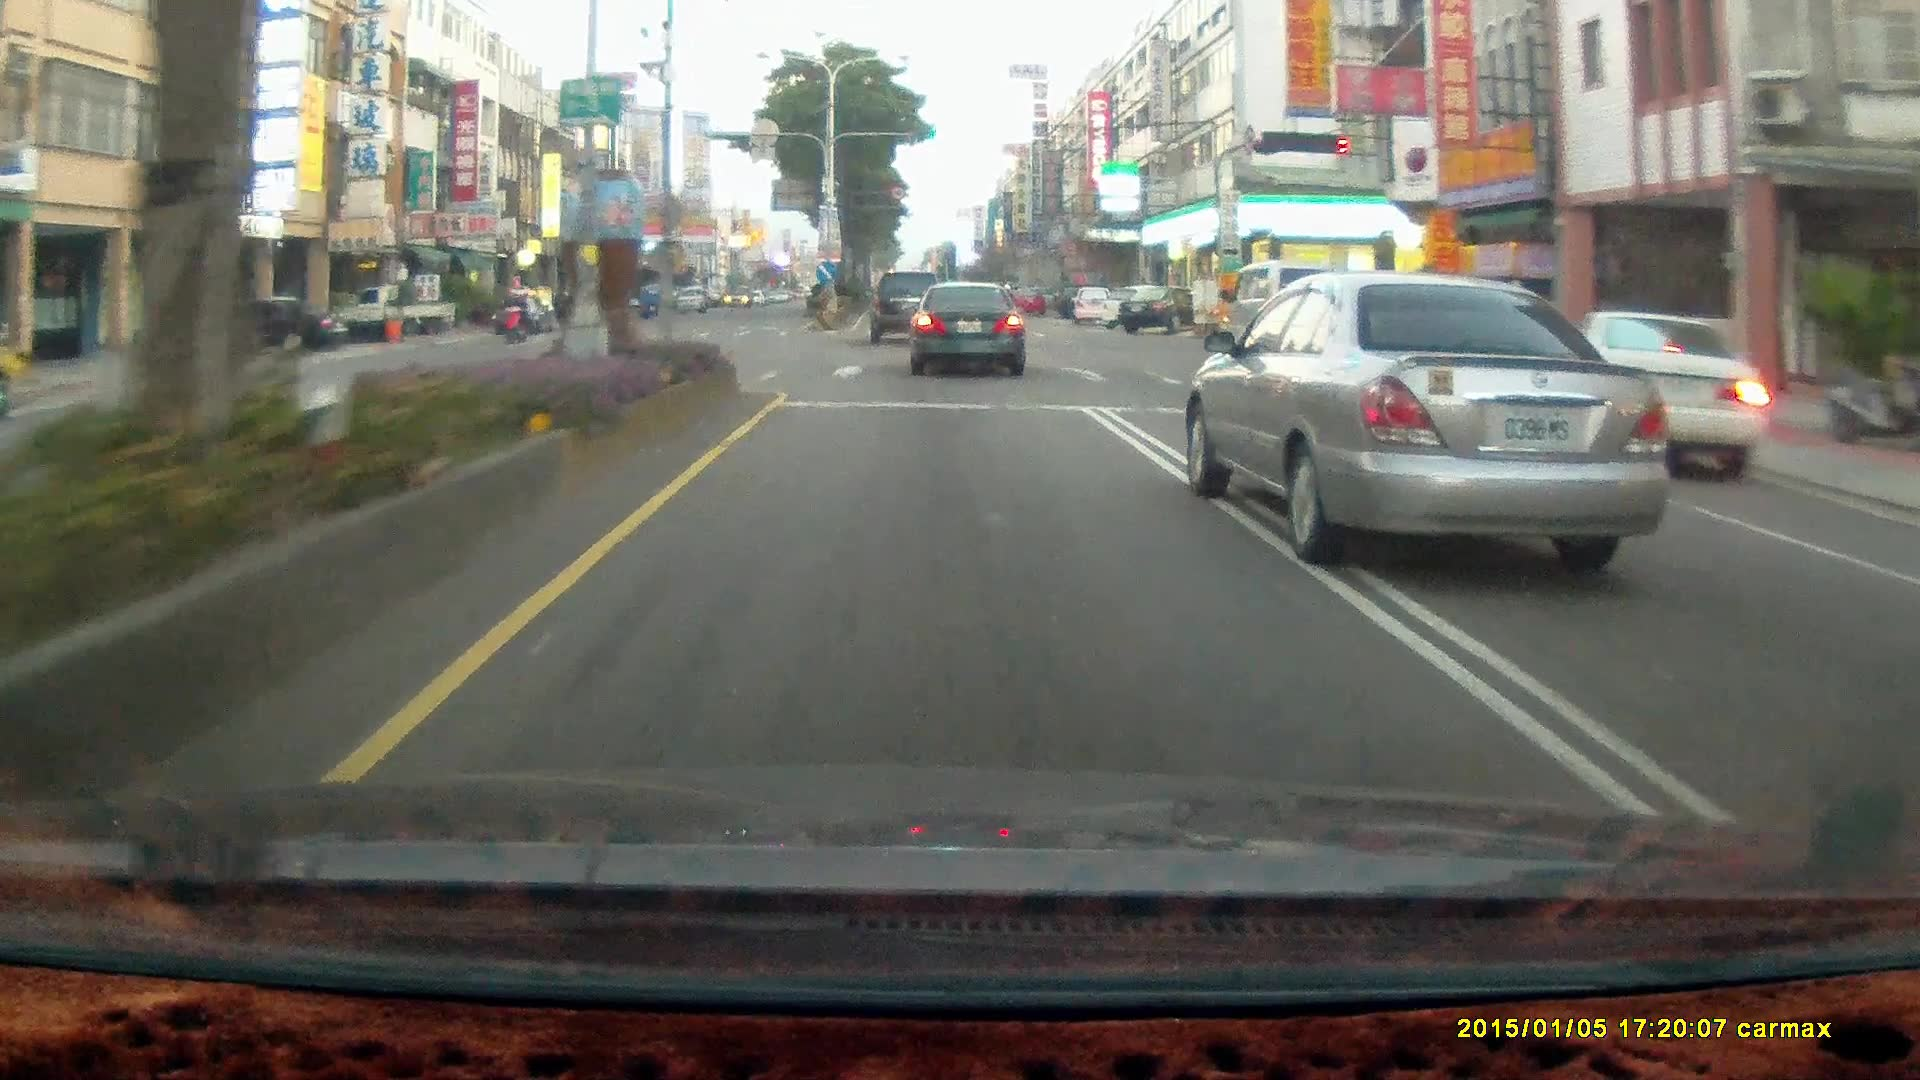rider: (502, 290, 533, 341)
vehicle: (1183, 272, 1680, 569), (1547, 309, 1768, 478), (1228, 266, 1379, 375), (1218, 261, 1368, 370), (907, 282, 1030, 381), (907, 281, 1024, 375), (185, 300, 340, 355), (226, 299, 349, 360), (347, 287, 460, 349), (334, 282, 455, 337), (869, 270, 947, 348), (872, 271, 948, 343), (1119, 283, 1207, 331), (1119, 286, 1185, 338), (492, 299, 553, 334), (1068, 285, 1116, 325), (592, 295, 631, 322), (673, 286, 704, 309), (639, 286, 666, 312)
